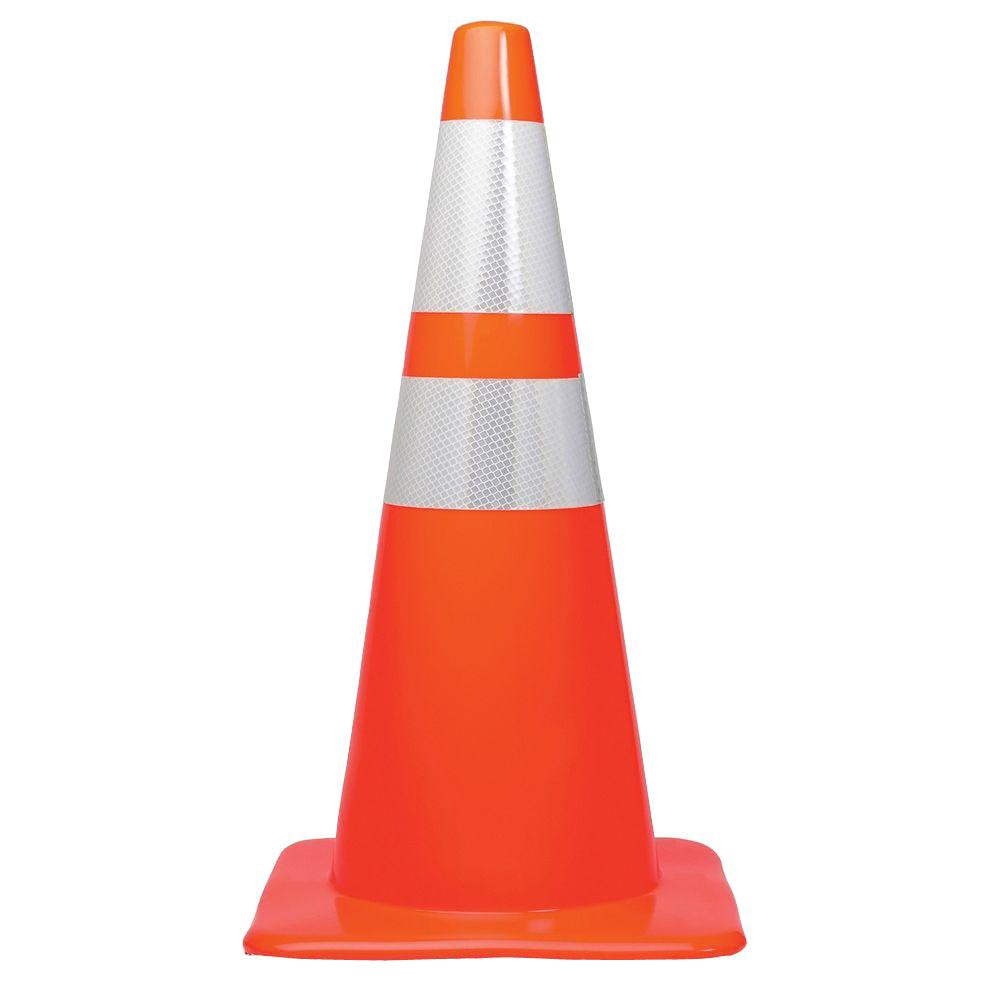cones: (240, 14, 755, 970)
